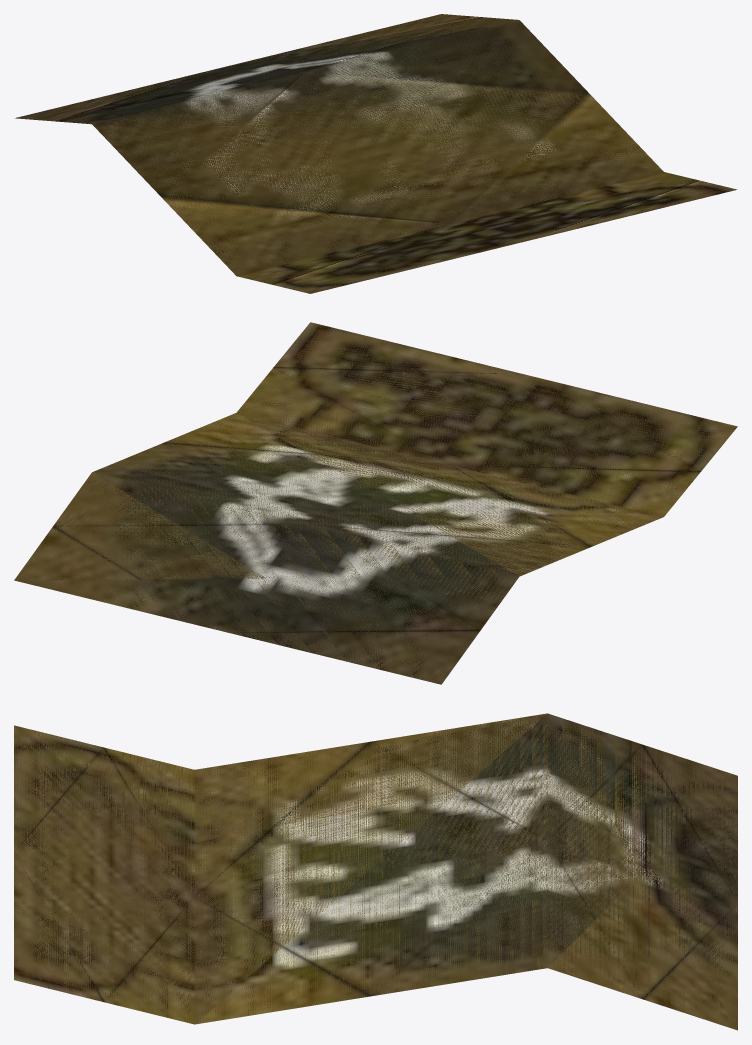
Rendered from ITSC_ICECUBE.glb.
3 renders of one model, top to bottom at view 1: azimuth 30°, elevation 25°; view 2: azimuth 150°, elevation 25°; view 3: azimuth 270°, elevation 25°, orthographic. The views are drawn at different scales.
Parts seen in each view (by area): view 1: Mesh; view 2: Mesh; view 3: Mesh.
Boxes of the visible parts, x1=… form: Mesh: x1=15, y1=14, x2=737, y2=293; Mesh: x1=14, y1=322, x2=737, y2=684; Mesh: x1=14, y1=713, x2=737, y2=1030.
Size of the model in its own units: 0.46 by 0.0525 by 0.5524.
1 material, 1 textured.
